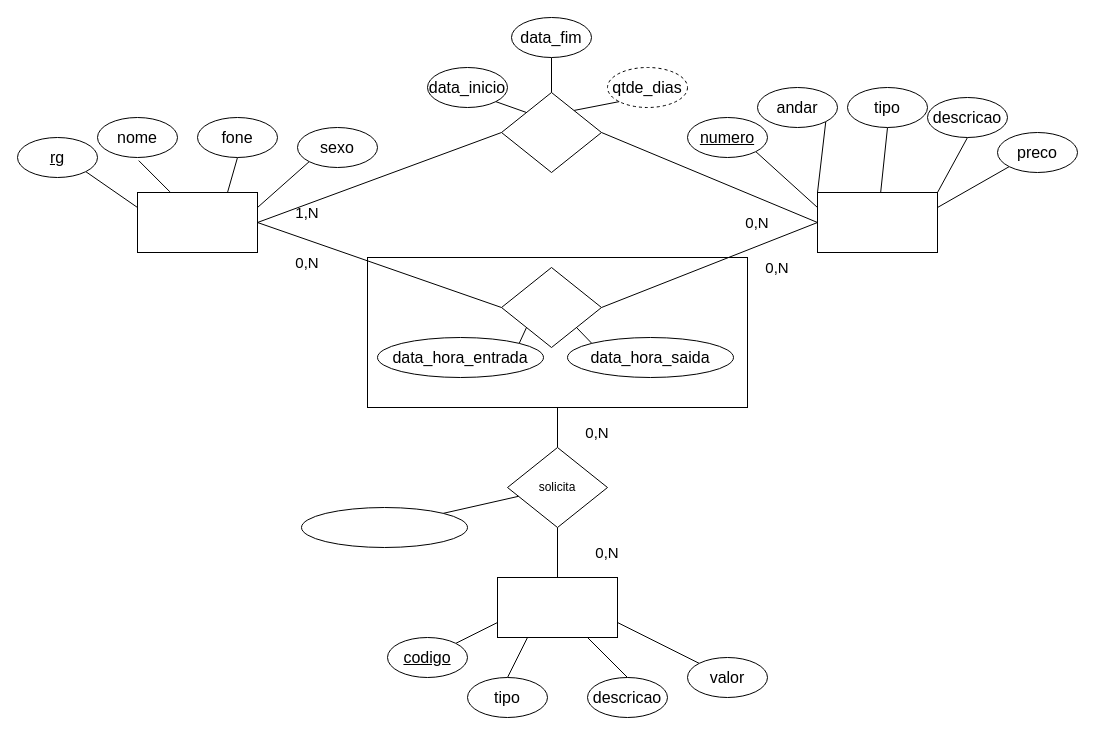
This 1095x735 diagram has some shape labels left out. The shapes that lost their labels are listed below. From the top down, each one's centre as x and y in pixels, then its label:
the point at 551,132: reserva
the point at 197,222: CLIENTE
the point at 877,222: QUARTO
the point at 551,307: ocupa
the point at 384,527: data_hora
the point at 557,607: SERVICO
